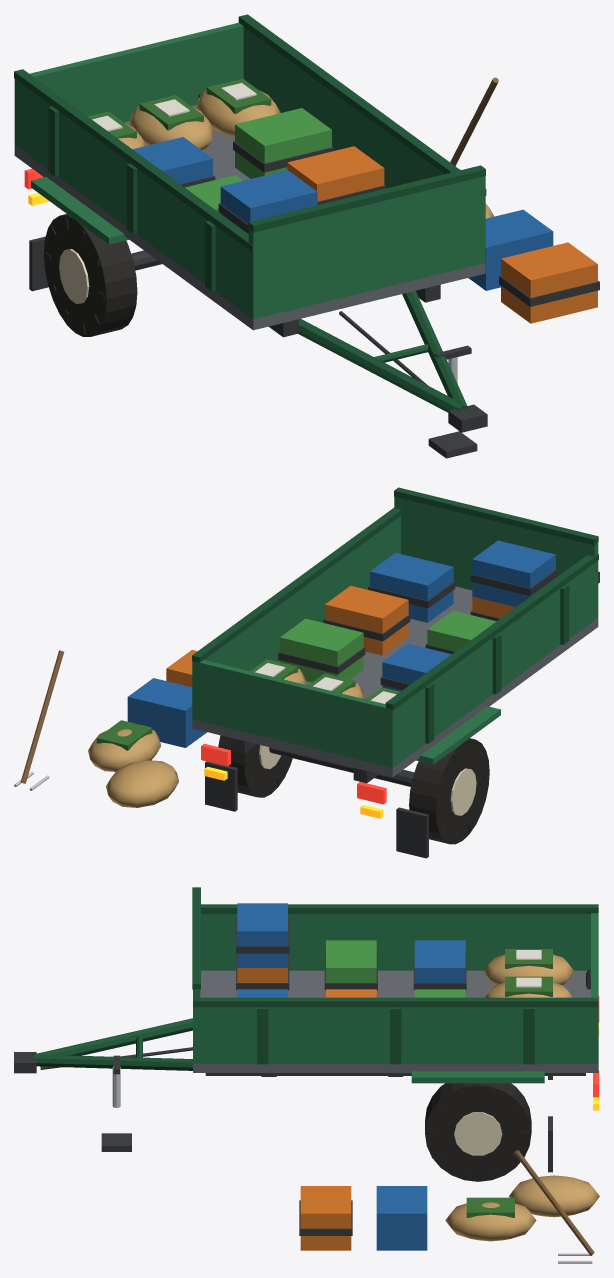
The model's file is tractor_trailer.glb.
3 renders of one model, top to bottom at view 1: azimuth 30°, elevation 25°; view 2: azimuth 150°, elevation 25°; view 3: azimuth 270°, elevation 25°, orthographic. The views are drawn at different scales.
Parts seen in each view (by area): view 1: DumpBed, HarvestLoad, TrailerBody, GroundProps; view 2: DumpBed, HarvestLoad, TrailerBody, GroundProps; view 3: DumpBed, TrailerBody, HarvestLoad, GroundProps.
Boxes of the visible parts, <box> form: DumpBed: <box>14,14,486,330</box>; HarvestLoad: <box>88,78,386,233</box>; TrailerBody: <box>24,168,487,458</box>; GroundProps: <box>450,77,599,323</box>; DumpBed: <box>192,487,598,777</box>; HarvestLoad: <box>250,540,557,704</box>; TrailerBody: <box>201,571,599,858</box>; GroundProps: <box>14,650,206,807</box>; DumpBed: <box>192,887,598,1072</box>; TrailerBody: <box>14,996,599,1181</box>; HarvestLoad: <box>236,903,574,997</box>; GroundProps: <box>299,1149,599,1263</box>.
Size of the model in its own units: 3.55 by 1.69 by 4.62.
